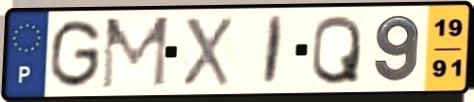9: (370, 12, 423, 86)
G: (47, 17, 105, 91)
I: (260, 14, 288, 88)
M: (98, 14, 172, 92)
Q: (308, 12, 364, 87)
X: (180, 15, 234, 88)
